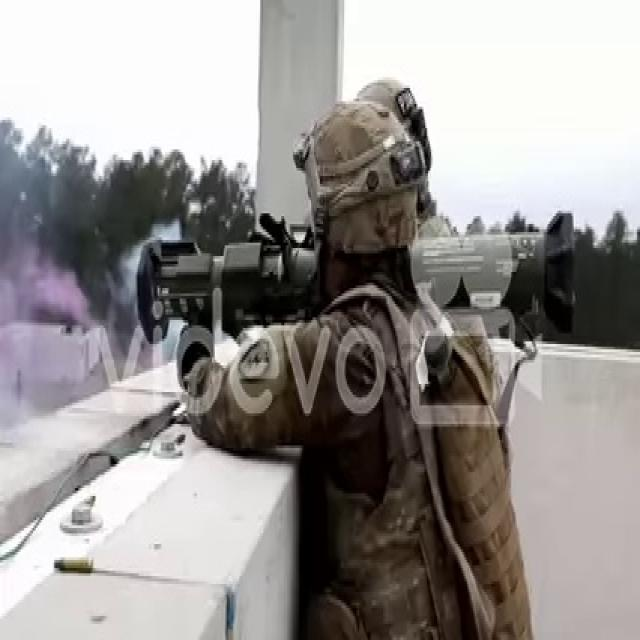bazooka: (136, 200, 583, 362)
